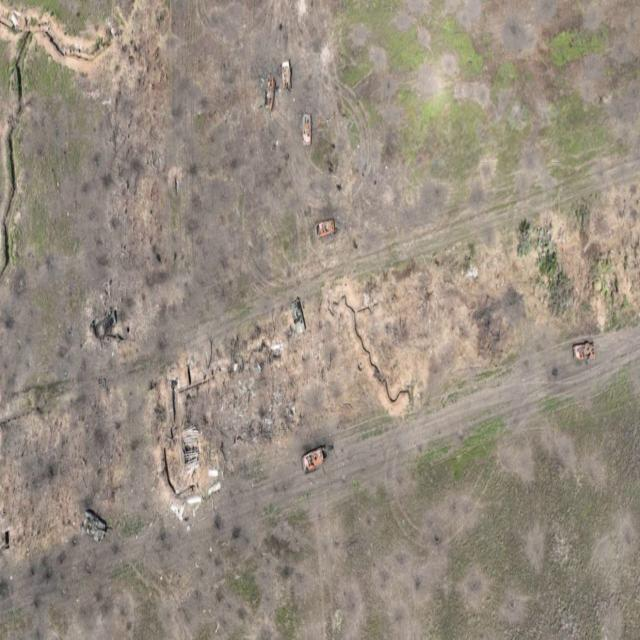AIFV: (291, 300, 307, 339)
Destroyed: (302, 447, 328, 477), (574, 342, 598, 365), (98, 313, 118, 339), (315, 219, 337, 241), (301, 115, 315, 147), (263, 78, 276, 112), (284, 61, 293, 92)
MBT: (83, 511, 109, 544)
